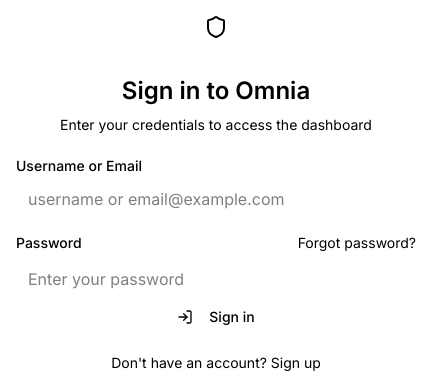
Test: BuiltinLoginForm › should show loading state during submission
Type "testuser" into the field labelled "Username or Email". click: (216, 199)
box: [16,181,416,217]
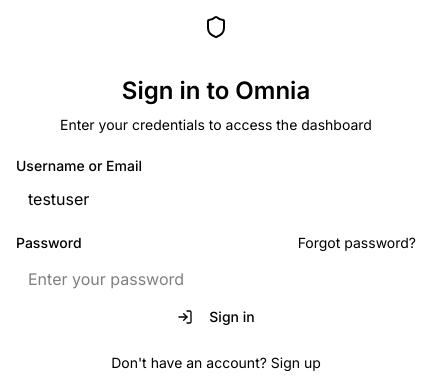
Type "testSecret123" into the password field labelled "Password". click: (216, 279)
box: [16,261,416,297]
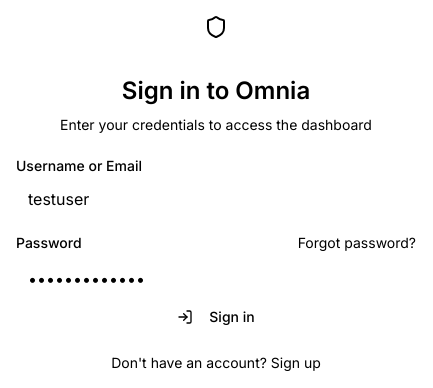
Click the button "Sign in". click: (216, 317)
box: [16,297,416,337]
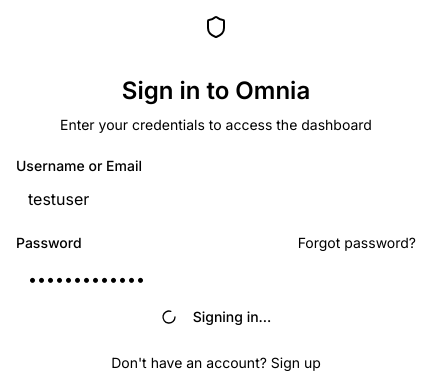
Result: the button is disabled at [16,297,416,337]
